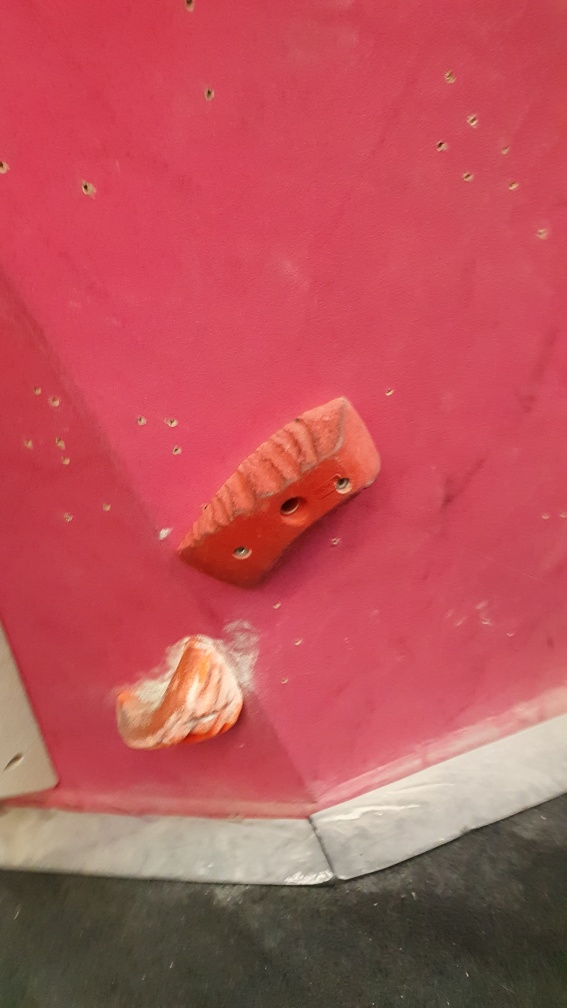Crimp: (173, 391, 388, 594)
Jug: (115, 632, 248, 760)
